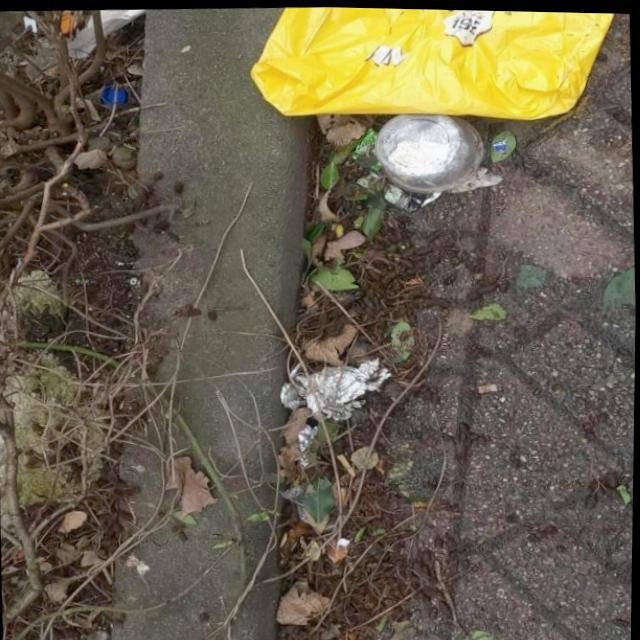Paper: (61, 7, 151, 62)
